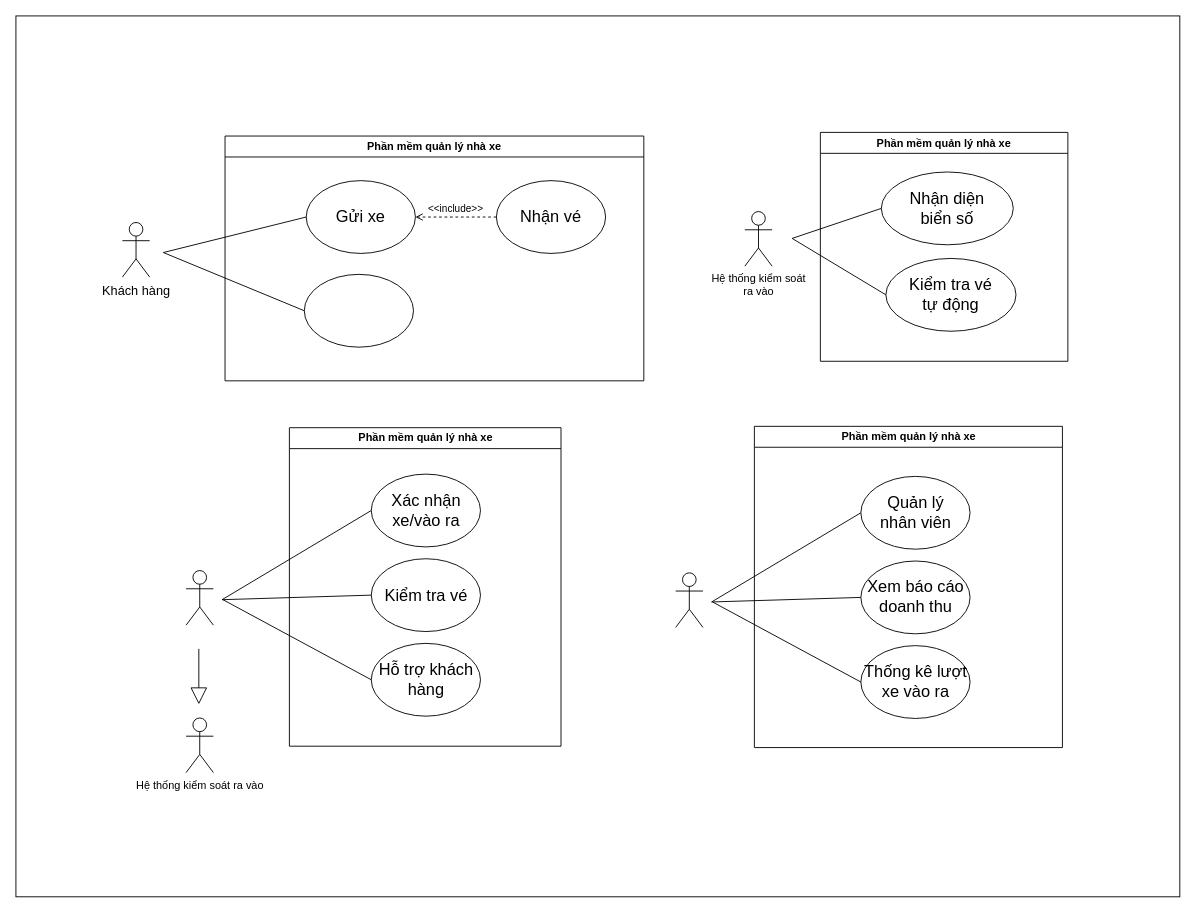
This 1196x913 diagram has some shape labels left out. Each missing label, with the box of its shape:
Nhân viên giữ xe: (185, 570, 213, 625)
Quản trị viên: (675, 572, 703, 627)
Thanh toán phí giữ xe: (303, 273, 414, 347)
